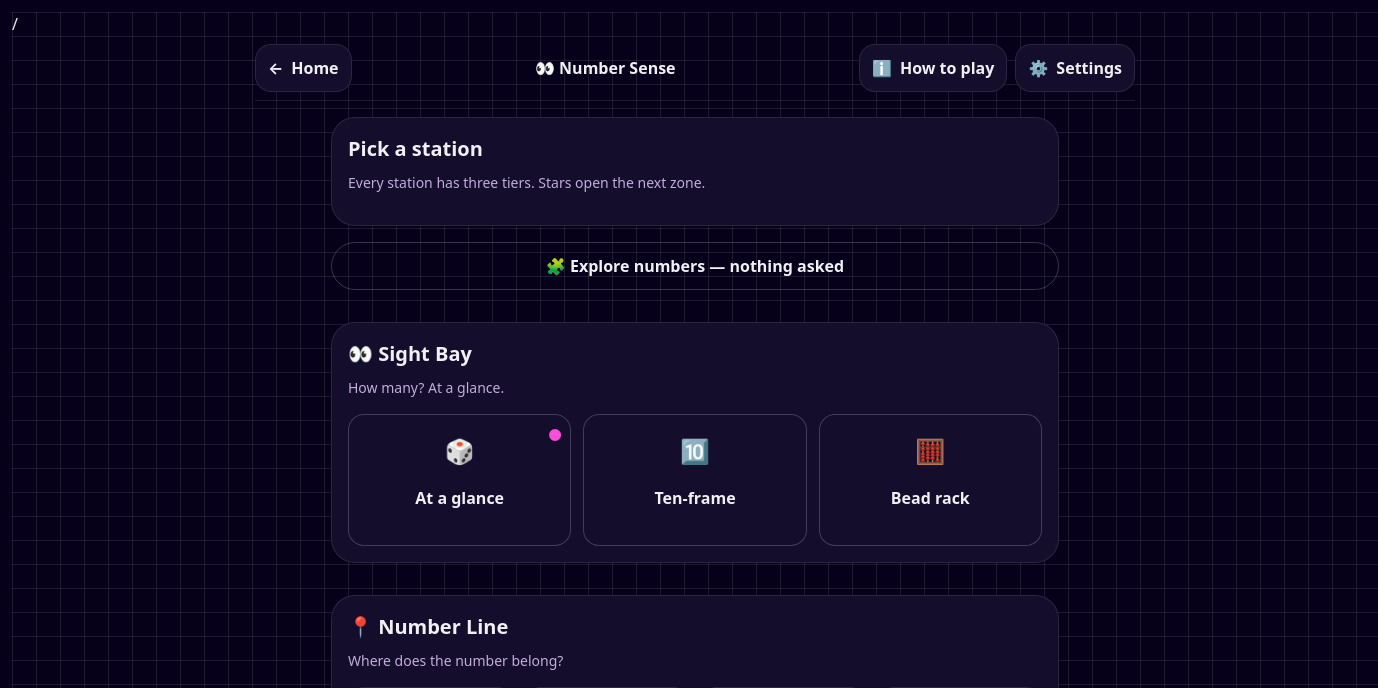
Test: NumberSensePage › opens the sandbox from the map without needing a star
Click the button "🧩 Explore numbers — nothing asked".
click(695, 266)  # box top-left (331, 242), bottom-right (1059, 290)
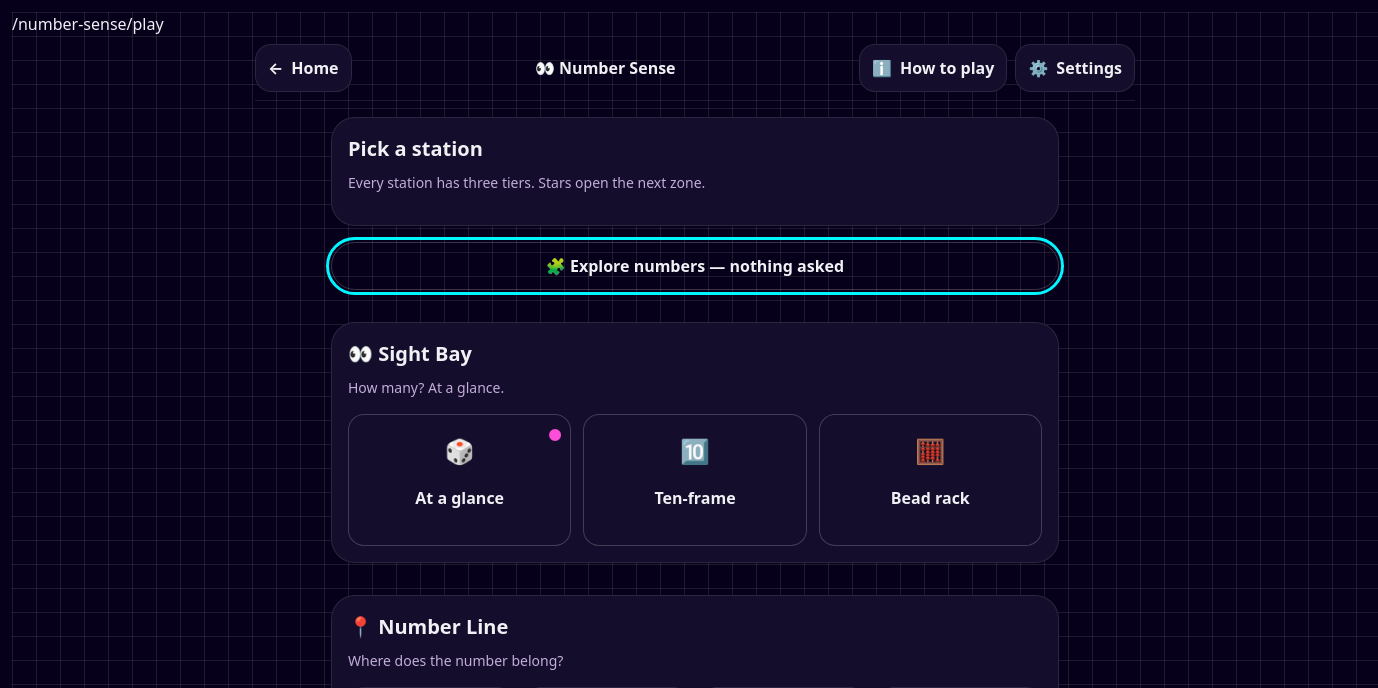
Expected: the text with test id "test-location" reads "/number-sense/play", top-left (12, 13), bottom-right (164, 35)
